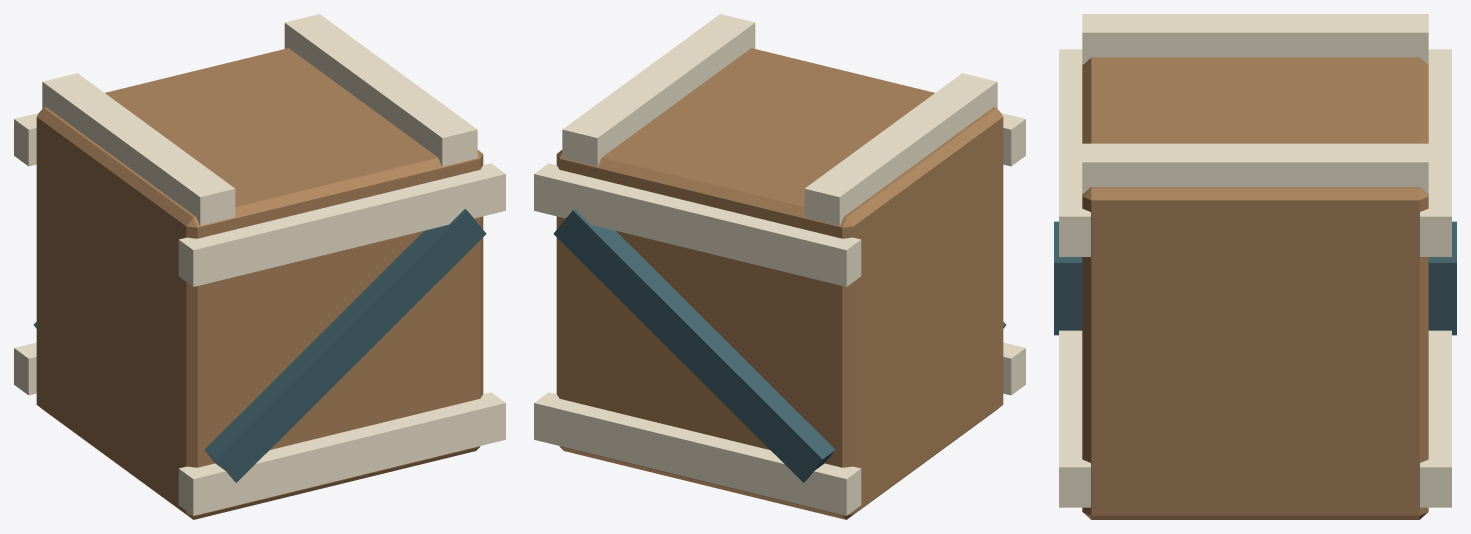
Rendered from AC_Shipping_Crate.glb.
The picture shows the model from 3 angles, left to right: view 1: azimuth 30°, elevation 25°; view 2: azimuth 150°, elevation 25°; view 3: azimuth 270°, elevation 25°; orthographic projection. The views are drawn at different scales.
Visible parts, largest first — view 1: AC_Shipping_Crate; view 2: AC_Shipping_Crate; view 3: AC_Shipping_Crate.
Boxes of the visible parts, x1,y1,x2,y2 form: AC_Shipping_Crate: (14,14,505,519); AC_Shipping_Crate: (534,14,1025,519); AC_Shipping_Crate: (1054,14,1456,519).
Size of the model in its own units: 0.8 by 0.795 by 0.815.
